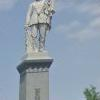Statue: (13, 2, 64, 70)
